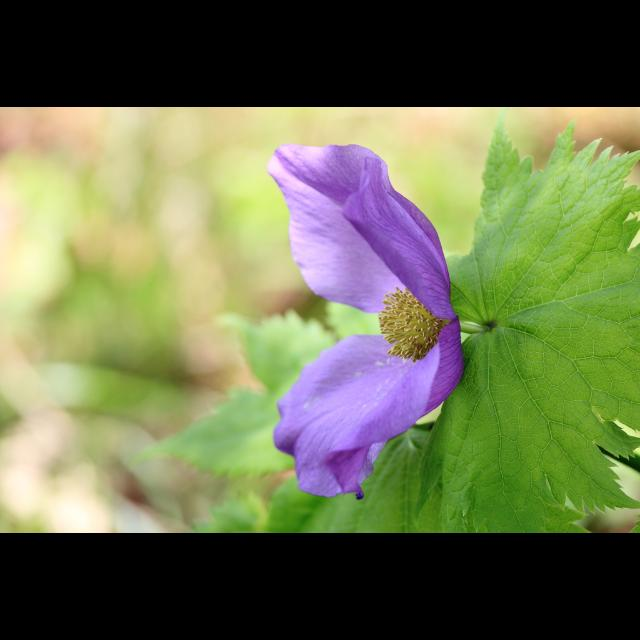Flower: (270, 157, 470, 488)
